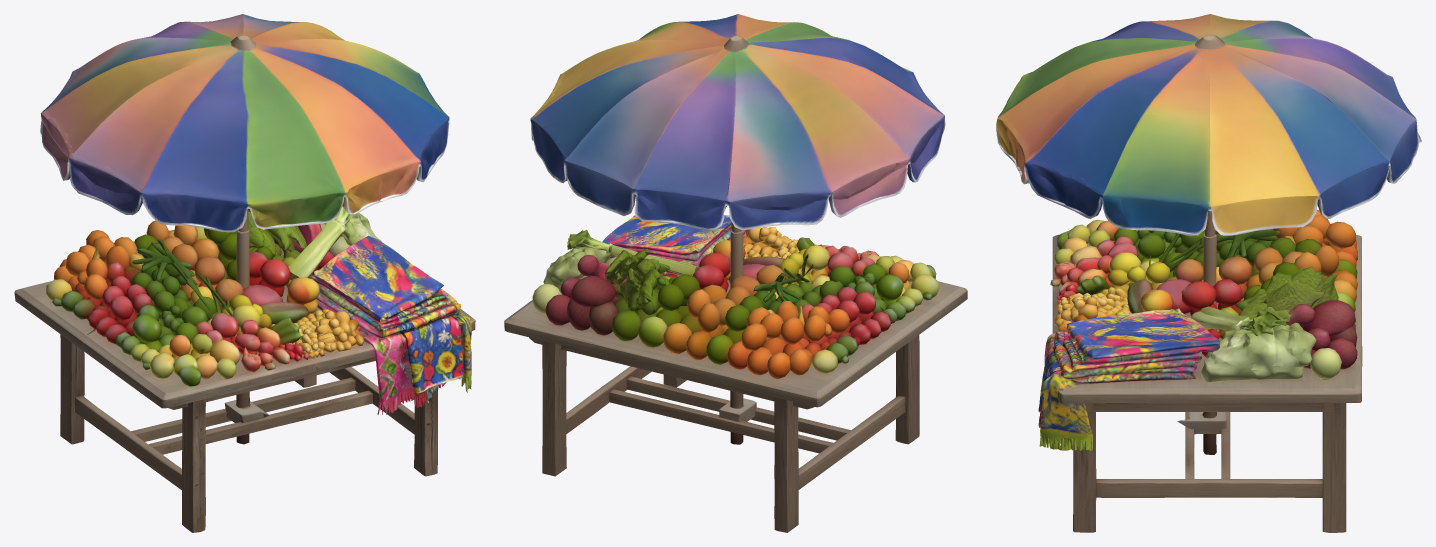
File: decor-etal.glb
3 renders of one model, left to right at view 1: azimuth 30°, elevation 25°; view 2: azimuth 150°, elevation 25°; view 3: azimuth 270°, elevation 25°, orthographic. The views are drawn at different scales.
Visible parts, largest first — view 1: model; view 2: model; view 3: model.
Boxes of the visible parts, <box> form: model: <box>14,14,475,532</box>; model: <box>504,14,967,532</box>; model: <box>996,14,1421,532</box>.
Bounding box in the file's own units: 1.67 × 1.89 × 1.69.
Materials: 1 (1 with a texture image).
